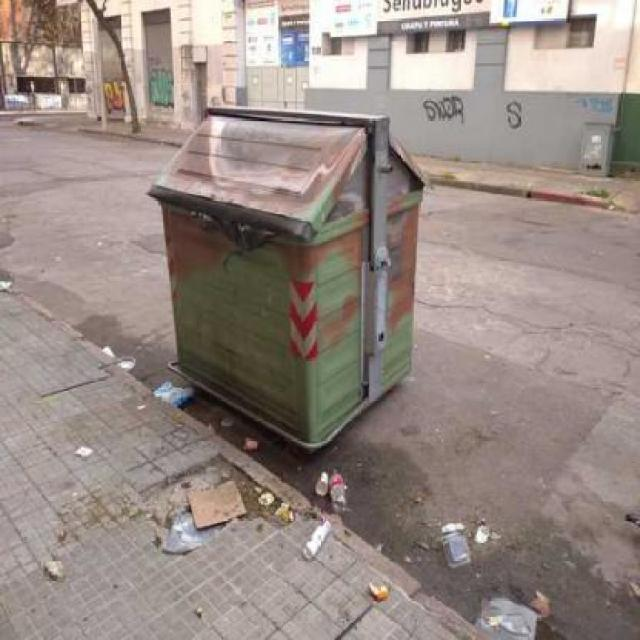garbage: (91, 374, 334, 593), (6, 541, 84, 606), (354, 577, 432, 621), (434, 518, 486, 570), (2, 273, 16, 320)
